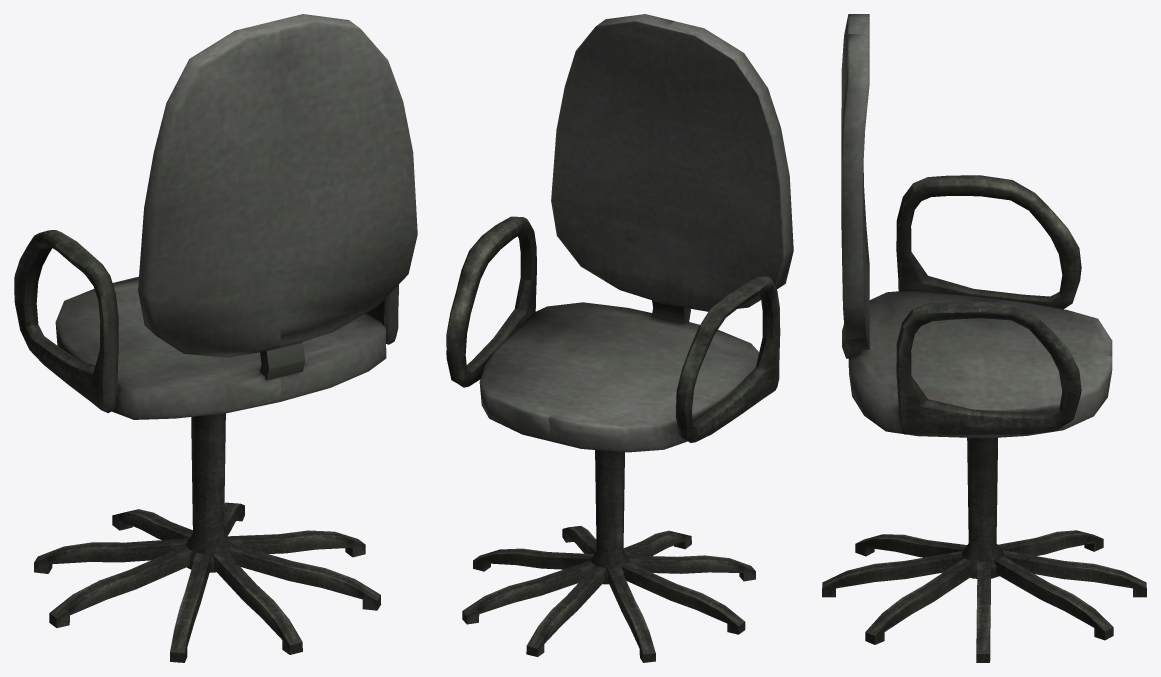
File: officeseat_a.glb
3 views of the same model, side by side, from view 1: azimuth 30°, elevation 25°; view 2: azimuth 150°, elevation 25°; view 3: azimuth 270°, elevation 25° (orthographic). The views are drawn at different scales.
Visible parts, largest first — view 1: Body; view 2: Body; view 3: Body.
Boxes of the visible parts, left/top/right/bottom form: Body: left=14, top=14, right=417, bottom=662; Body: left=446, top=14, right=793, bottom=662; Body: left=822, top=14, right=1146, bottom=662.
Size of the model in its own units: 24.53 by 46.45 by 24.41.
1 material, 1 textured.
